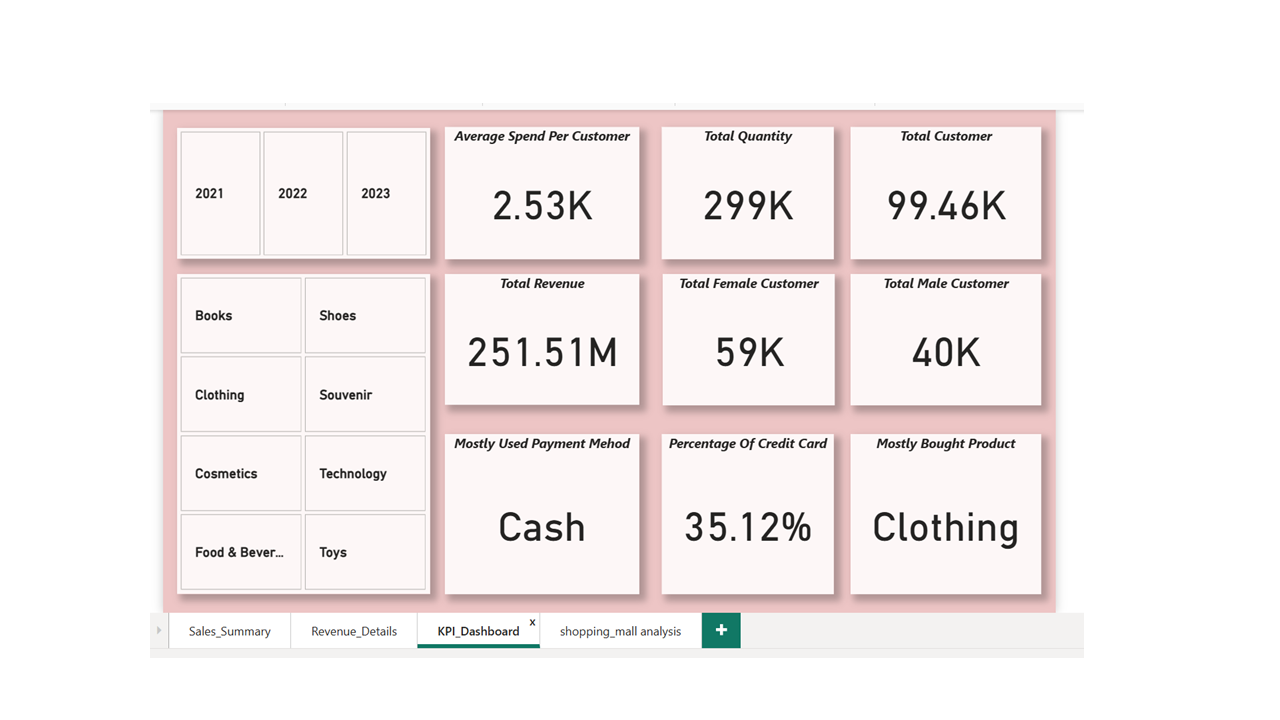

Layout of this report page (visuals, bound fields, positions):
{"tool":"powerbi","page":{"name":"KPI_Dashboard","canvas":[1280,720],"ordinal":2},"visuals":[{"type":"card","title":"Total Customer","fields":{"Values":["CountNonNull(project_customer_segmentation customer.customer_id)"]},"box":[986.2,23.9,273.6,189.3],"z":0},{"type":"card","title":"Total Revenue","fields":{"Values":["Sum(project_customer_segmentation customer.total_sales)"]},"box":[404.3,235,278.8,187.2],"z":1000},{"type":"card","title":"Average Spend Per Customer","fields":{"Values":["Avg(project_customer_segmentation customer.avg_spend)"]},"box":[404.3,23.9,278.8,189.2],"z":2000},{"type":"advancedSlicerVisual","fields":{"Values":["project_customer_segmentation customer.category"]},"box":[19.9,235,362.5,458.1],"z":3000},{"type":"card","title":"Total Quantity","fields":{"Values":["Sum(project_customer_segmentation customer.quantity)"]},"box":[715,23.9,247,189.2],"z":4000},{"type":"advancedSlicerVisual","fields":{"Values":["project_customer_segmentation customer.invoice_date.Variation.Date Hierarchy.Year"]},"box":[19.9,25.9,362.5,187.2],"z":5000},{"type":"card","title":"Total Male Customer","fields":{"Values":["project_customer_segmentation customer.mala_customers"]},"box":[986.2,235.4,273.6,187.7],"z":6000},{"type":"card","title":"Total Female Customer","fields":{"Values":["project_customer_segmentation customer.Femala_customers"]},"box":[715.8,235.4,246.5,187.7],"z":7000},{"type":"card","title":"Mostly Used Payment Mehod","fields":{"Values":["project_customer_segmentation customer.Most Used Payment Method"]},"box":[404,464.5,278.4,229],"z":8000},{"type":"card","title":"Percentage Of  Credit Card","fields":{"Values":["project_customer_segmentation customer.Credit Card %"]},"box":[715,464.1,247,229],"z":9000},{"type":"card","title":"Mostly Bought Product","fields":{"Values":["project_customer_segmentation customer.Most Bought Product"]},"box":[986,464,273,229],"z":10000}]}

Visuals, with their boxes on the page's 1280x720 design canvas (x1, y1, x2, y2). These are canvas units, not pixel positions in the 1280x720 screenshot, which may show the page scaled, cropped or inside an application window:
"Total Customer" card: select_region(986, 24, 1260, 213)
"Total Revenue" card: select_region(404, 235, 683, 422)
"Average Spend Per Customer" card: select_region(404, 24, 683, 213)
advancedSlicerVisual - project_customer_segmentation customer.category: select_region(20, 235, 382, 693)
"Total Quantity" card: select_region(715, 24, 962, 213)
advancedSlicerVisual - project_customer_segmentation customer.invoice_date.Variation.Date Hierarchy.Year: select_region(20, 26, 382, 213)
"Total Male Customer" card: select_region(986, 235, 1260, 423)
"Total Female Customer" card: select_region(716, 235, 962, 423)
"Mostly Used Payment Mehod" card: select_region(404, 464, 682, 694)
"Percentage Of  Credit Card" card: select_region(715, 464, 962, 693)
"Mostly Bought Product" card: select_region(986, 464, 1259, 693)
